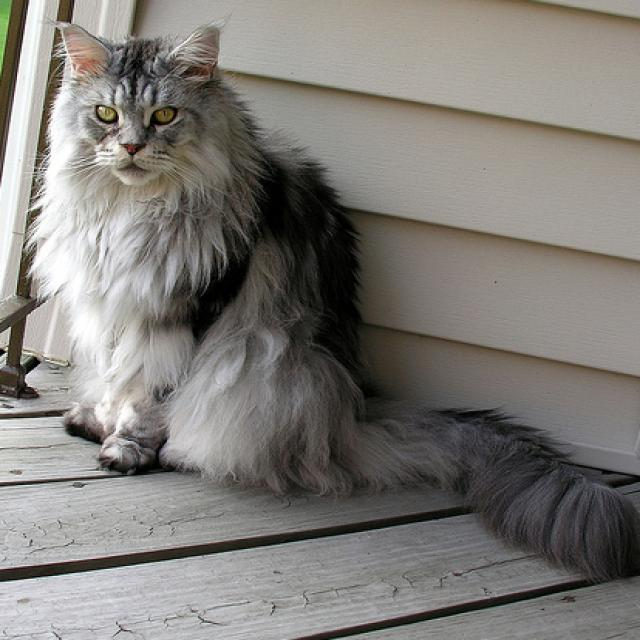Maine Coon: (31, 17, 640, 585)
